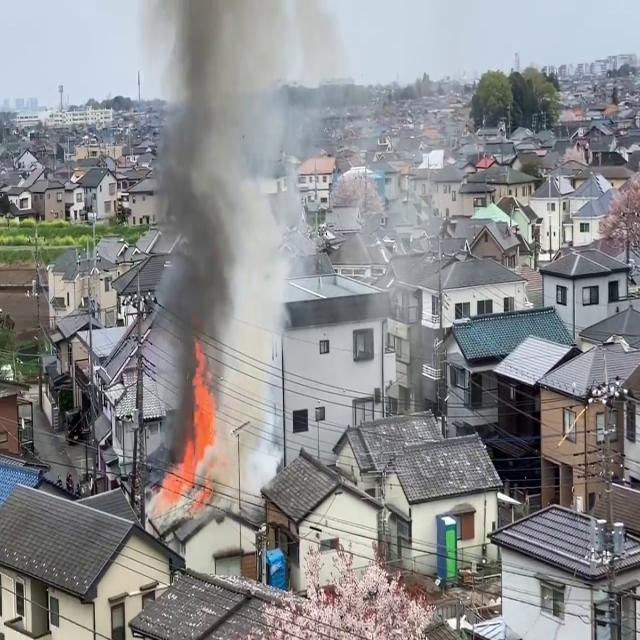Fire: (154, 343, 222, 508)
Smoke: (142, 1, 310, 488)
